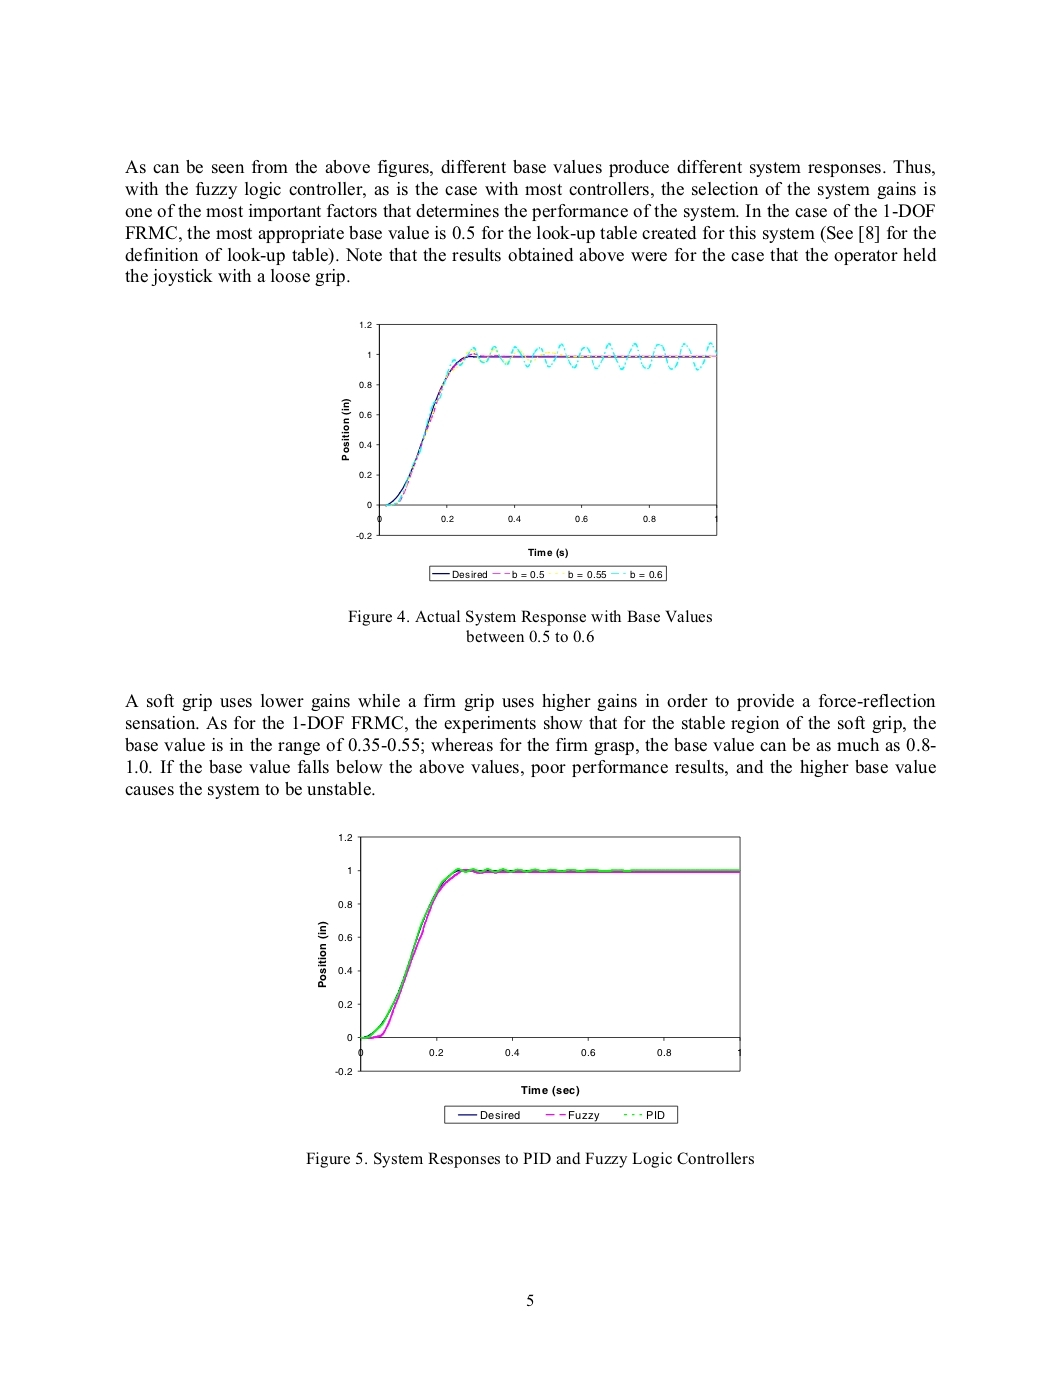figure: (317, 834, 740, 1123), (341, 321, 717, 581)
